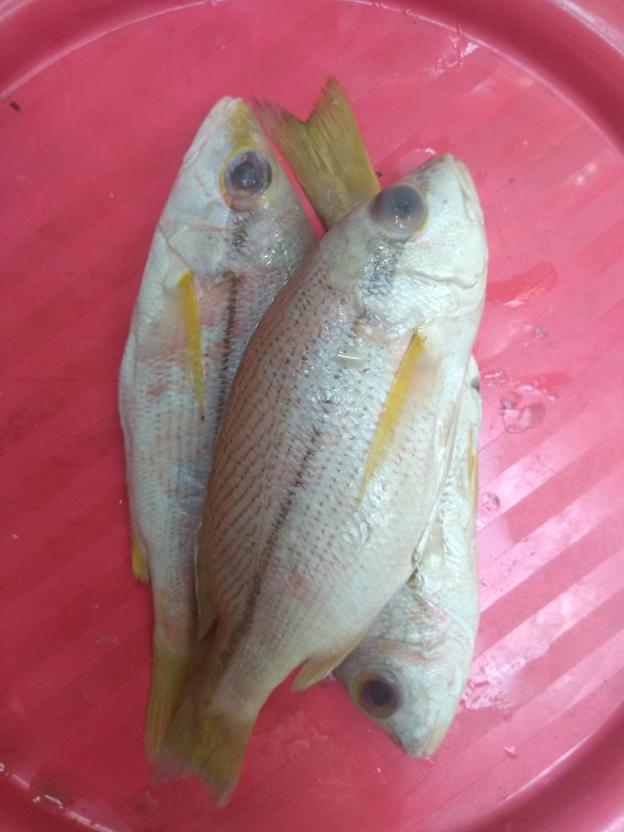Fish head: (156, 97, 316, 277), (332, 151, 489, 332), (334, 592, 477, 759)
Fish tail: (249, 72, 378, 230), (155, 675, 278, 816), (144, 636, 193, 741)
